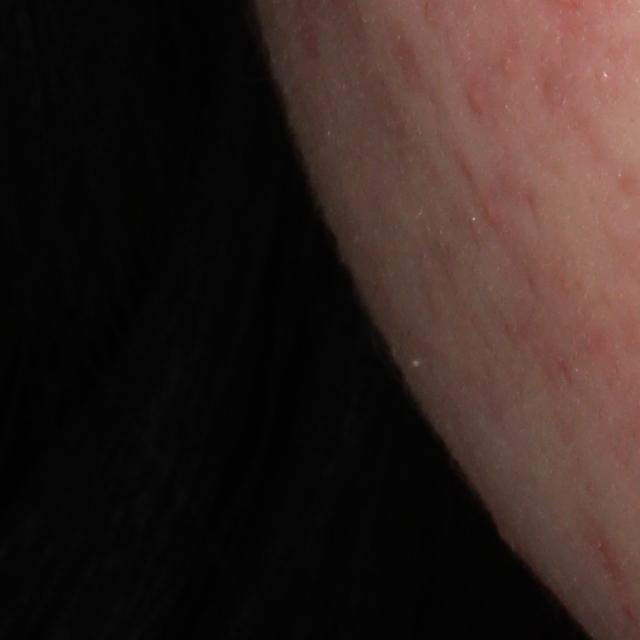papule: (466, 83, 485, 112), (482, 200, 500, 223)
